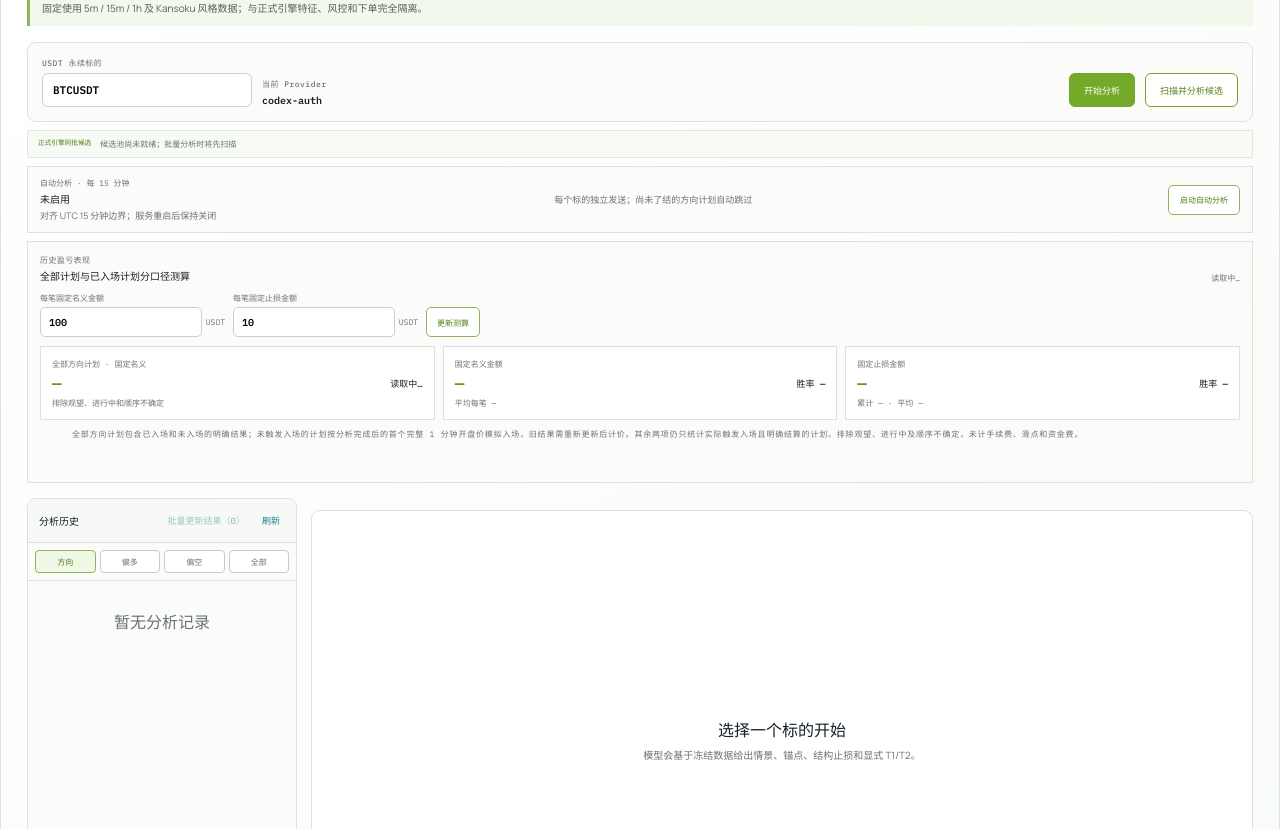
MarketAnalysisPanel › keeps a neutral range plan in its dedicated layout before scenarios
The image size is (1280, 829).
Click the button "全部". click: (259, 562)
box: [228,550,289,573]
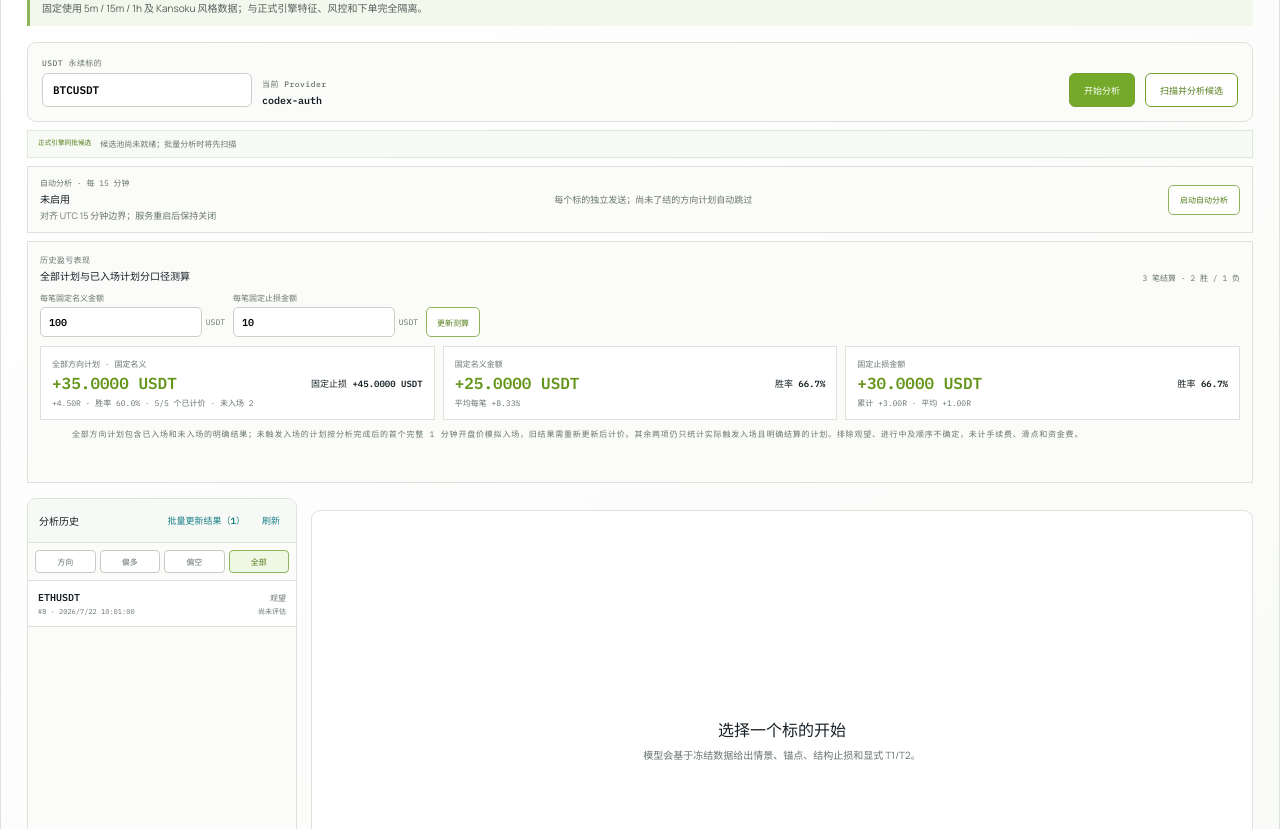
Click the button "ETHUSDT #8 · 2026/7/22 10:01:00 观望 尚未评估". click: (59, 598)
box: [28,581,296,627]
(page scrolled)
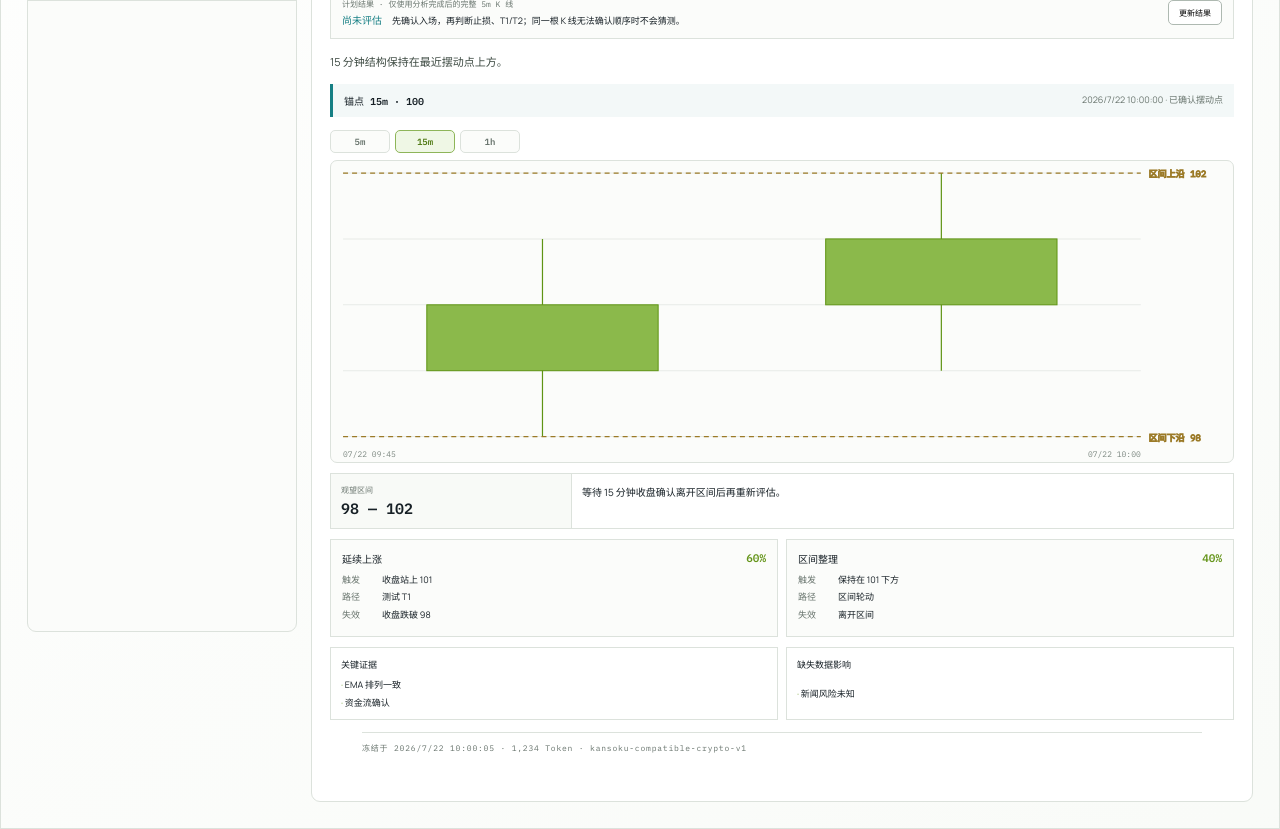
Result: the text "观望区间" is shown at [341,484,373,495]
Result: the text "延续上涨" is shown at [342,551,382,566]
